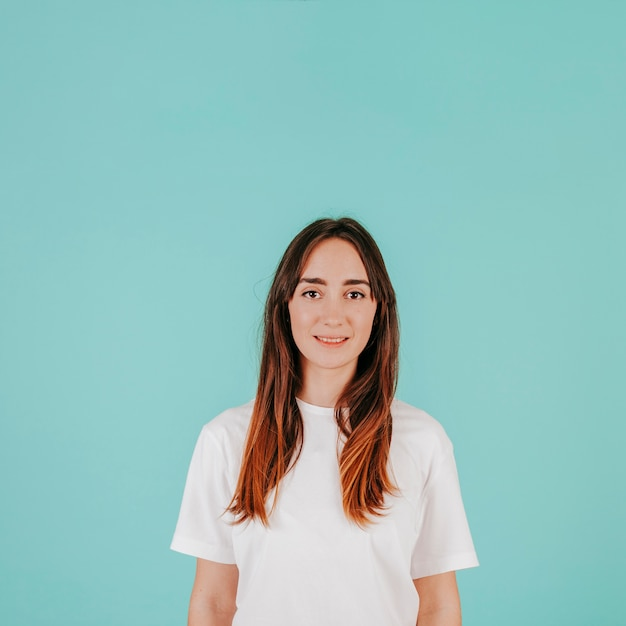teen: (251, 208, 400, 405)
